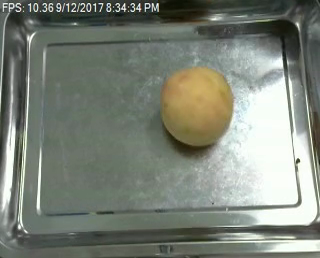Peach: (160, 66, 232, 146)
